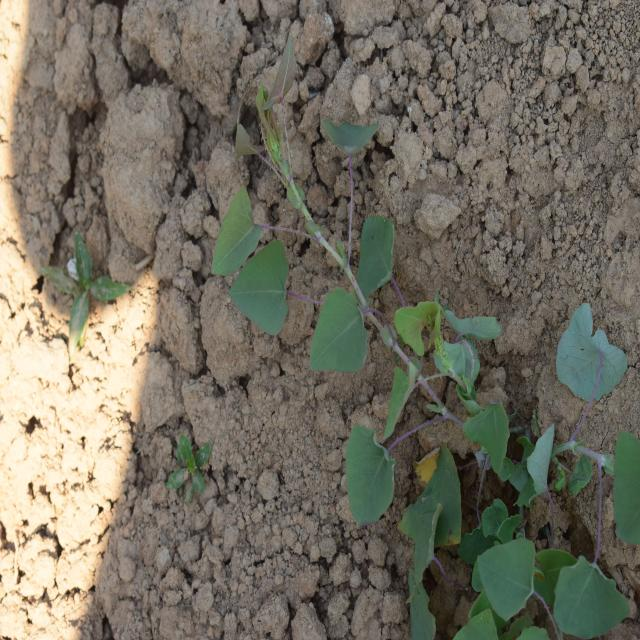Asiatic_Smartweed: (212, 64, 396, 360), (471, 505, 622, 634), (335, 420, 410, 516)
